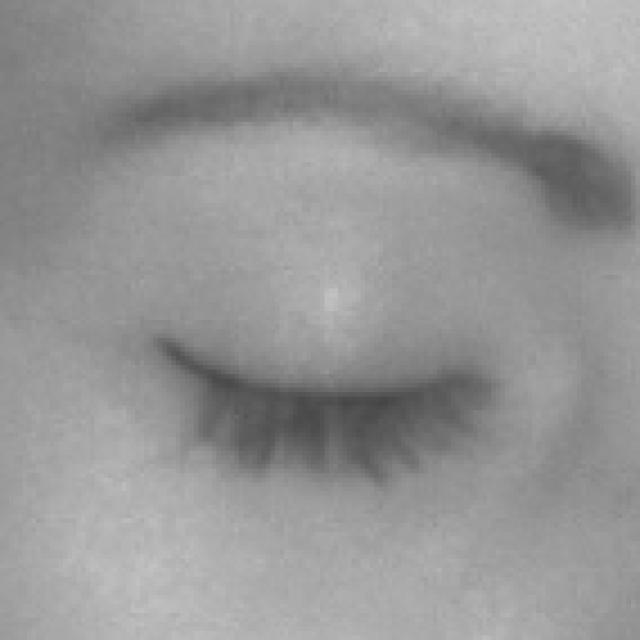close: (0, 37, 640, 590)
